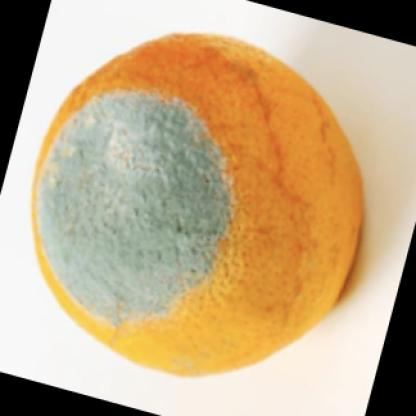rotten: (32, 34, 364, 374)
